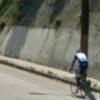bicycles: (68, 68, 89, 99)
